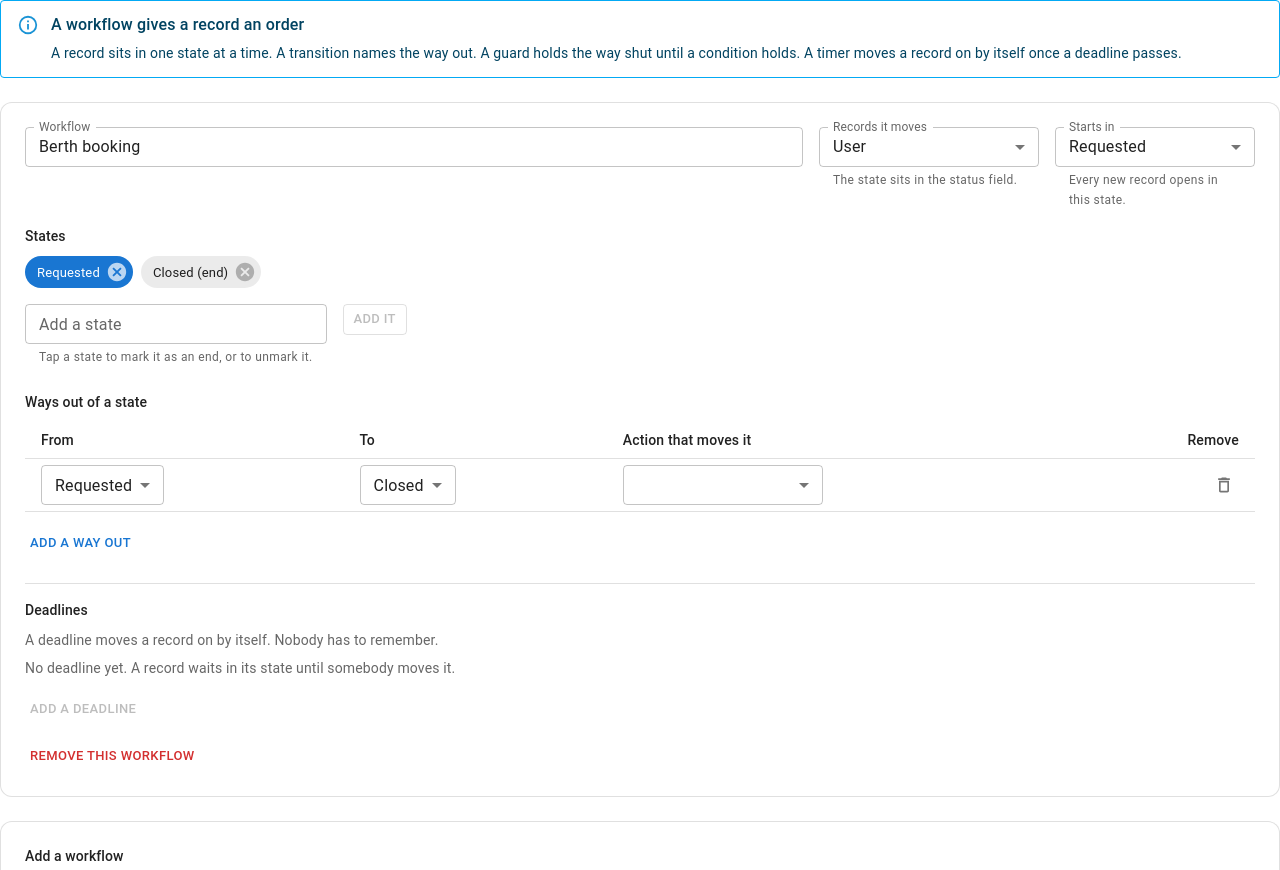
Scenario: the workflow editor over a held workflow › adds a named state and reports that it strands a record
Type "On hold" into the field labelled "Add a state" at coordinates (176, 324), box [25,304,327,344]
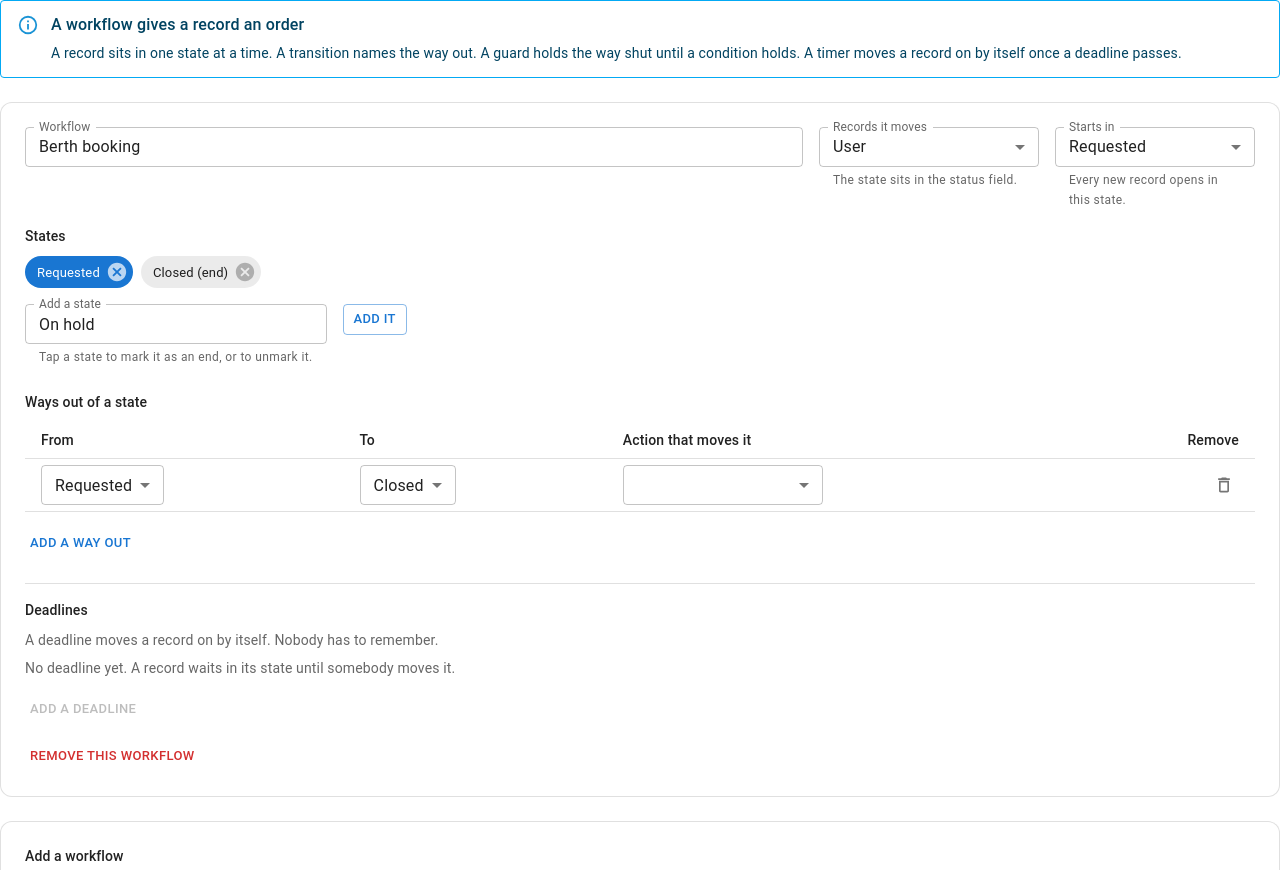
Click the button "Add it" in the row of "Add a state" at coordinates (375, 320), box [343,304,407,335]
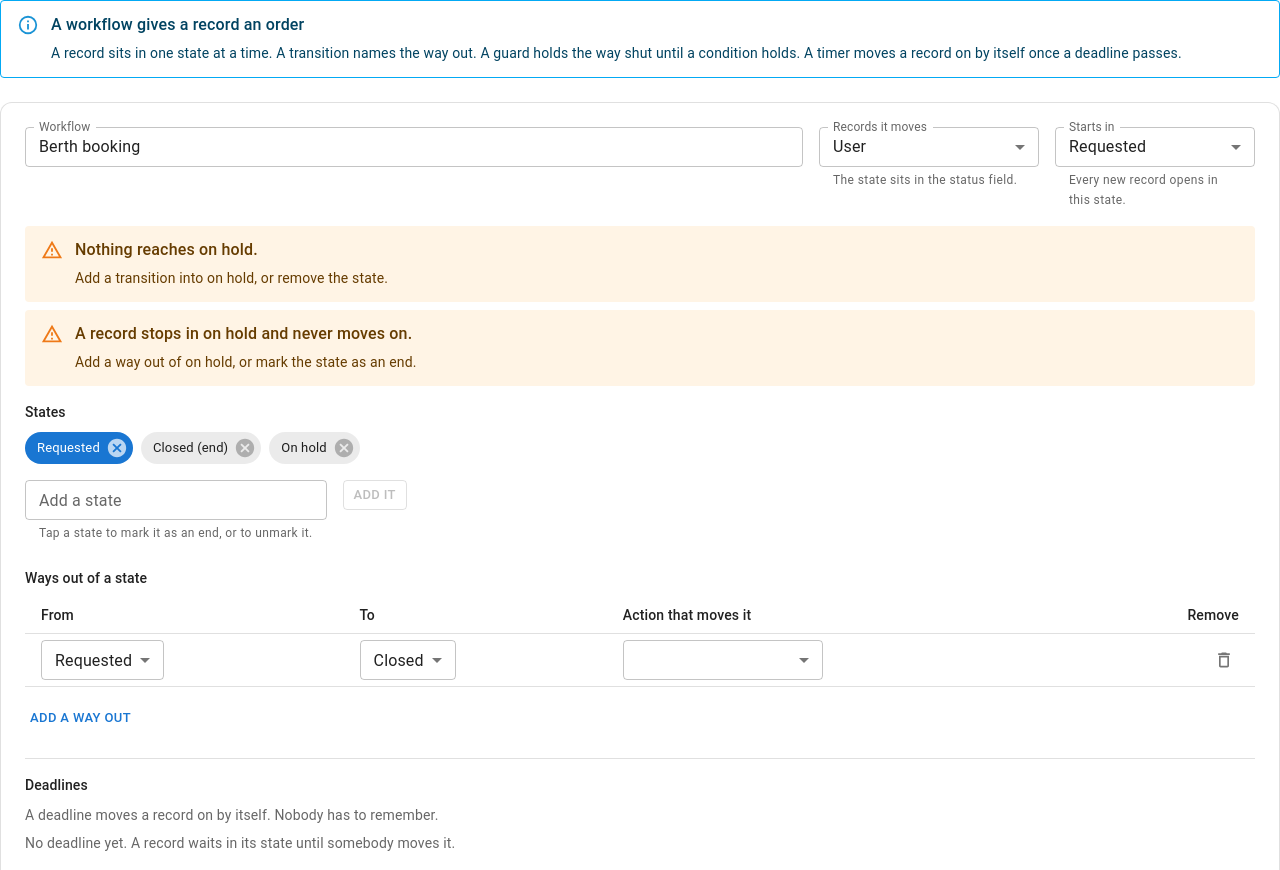
Expected: the field labelled "Add a state" is empty, [25,480,327,520]
Expected: the text "Nothing reaches on hold." is shown, [75,240,258,259]
Expected: the text "A record stops in on hold and never moves on." is shown, [75,322,417,346]
